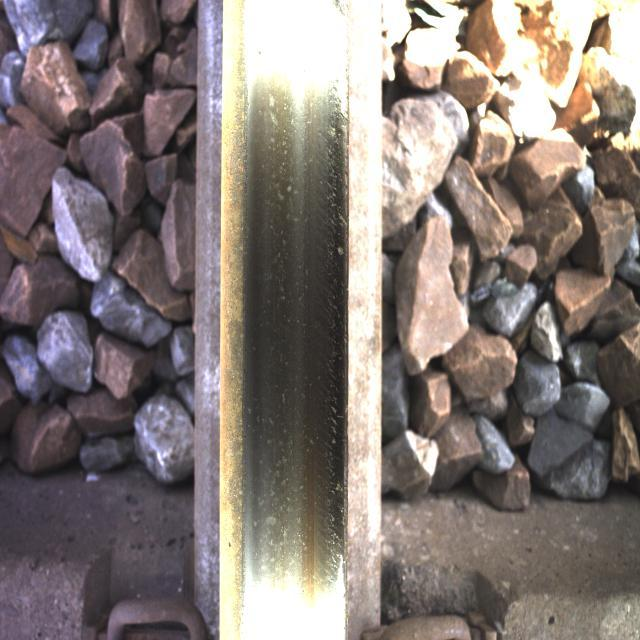normal: (246, 58, 342, 568)
